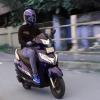motorcycles: (11, 36, 67, 100)
